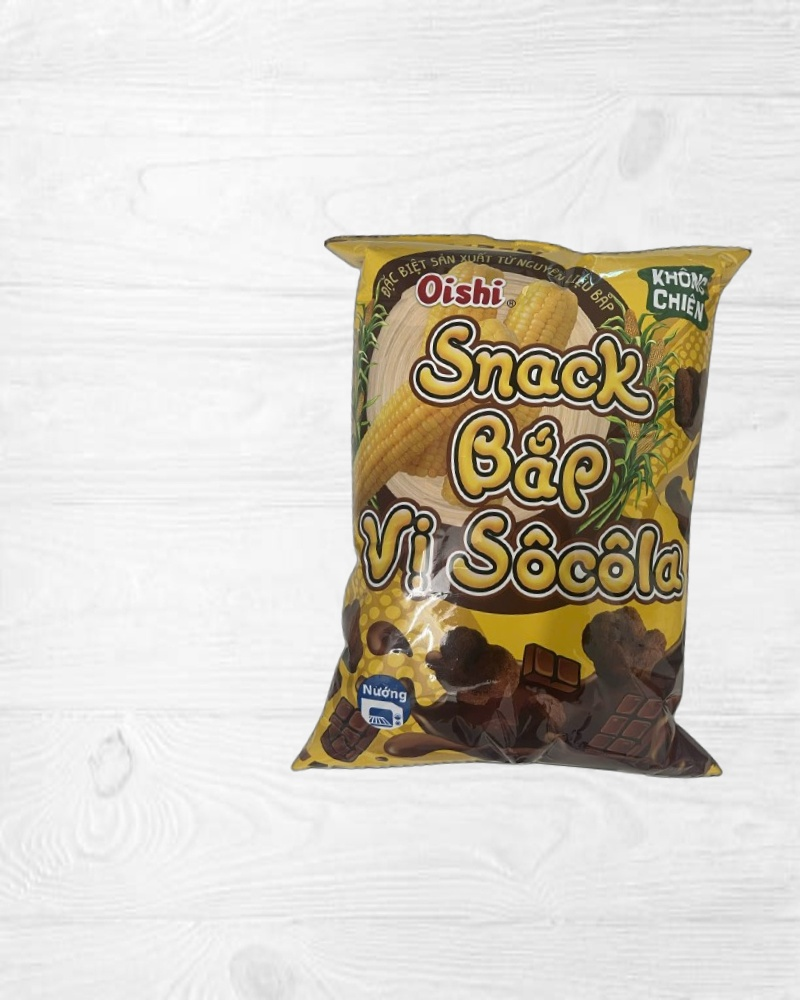Snack socola: (282, 216, 768, 797)
